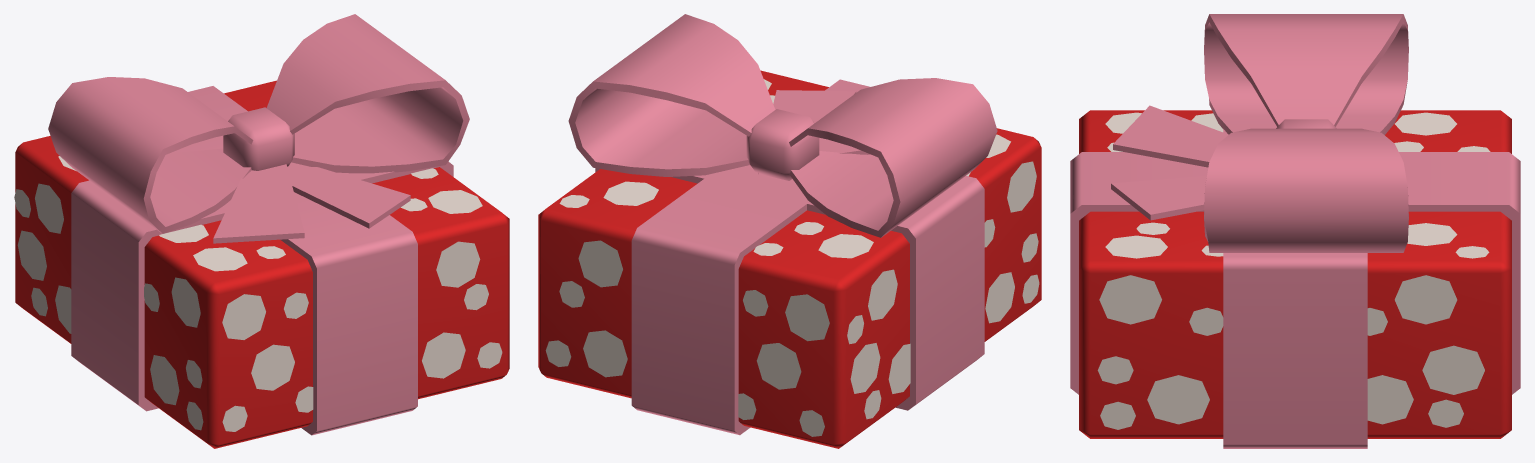
The model's file is Gift_24_231109.glb.
3 renders of one model, left to right at view 1: azimuth 30°, elevation 25°; view 2: azimuth 150°, elevation 25°; view 3: azimuth 270°, elevation 25°, orthographic. The views are drawn at different scales.
Parts seen in each view (by area): view 1: Gift_24; view 2: Gift_24; view 3: Gift_24.
Part boxes in pixels (x1,y1,x2,y2): Gift_24: (14,14,509,448); Gift_24: (538,14,1041,448); Gift_24: (1070,14,1520,448).
Size of the model in its own units: 0.5308 by 0.4131 by 0.5917.
Materials: 1 (1 with a texture image).
